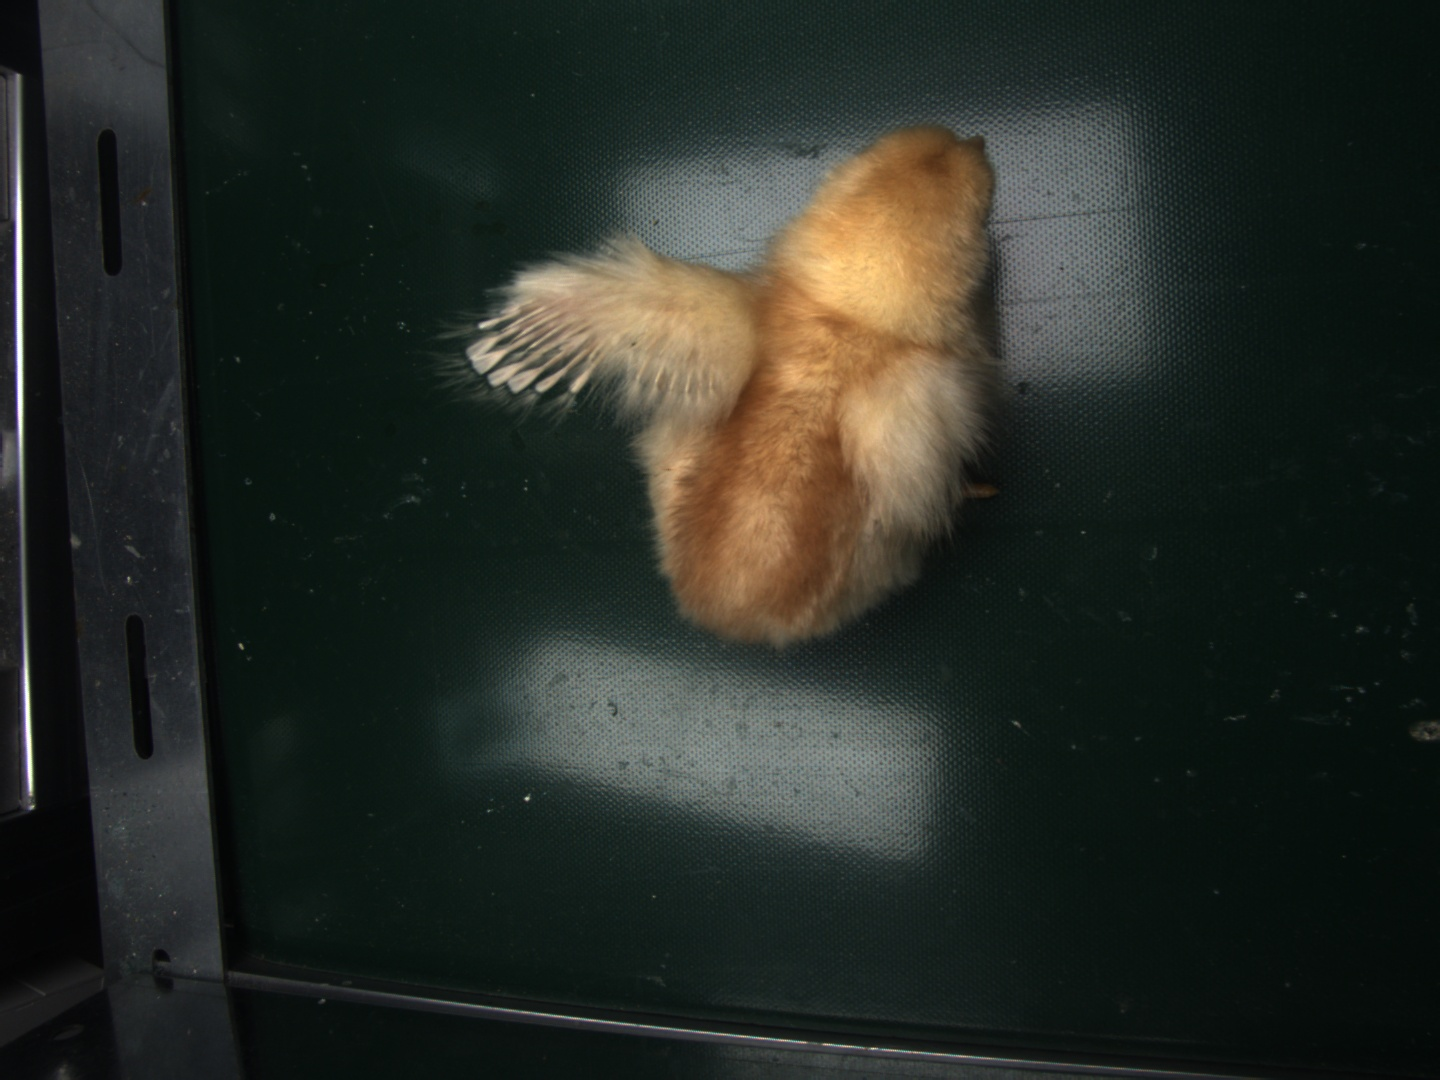female: (466, 297, 598, 390)
